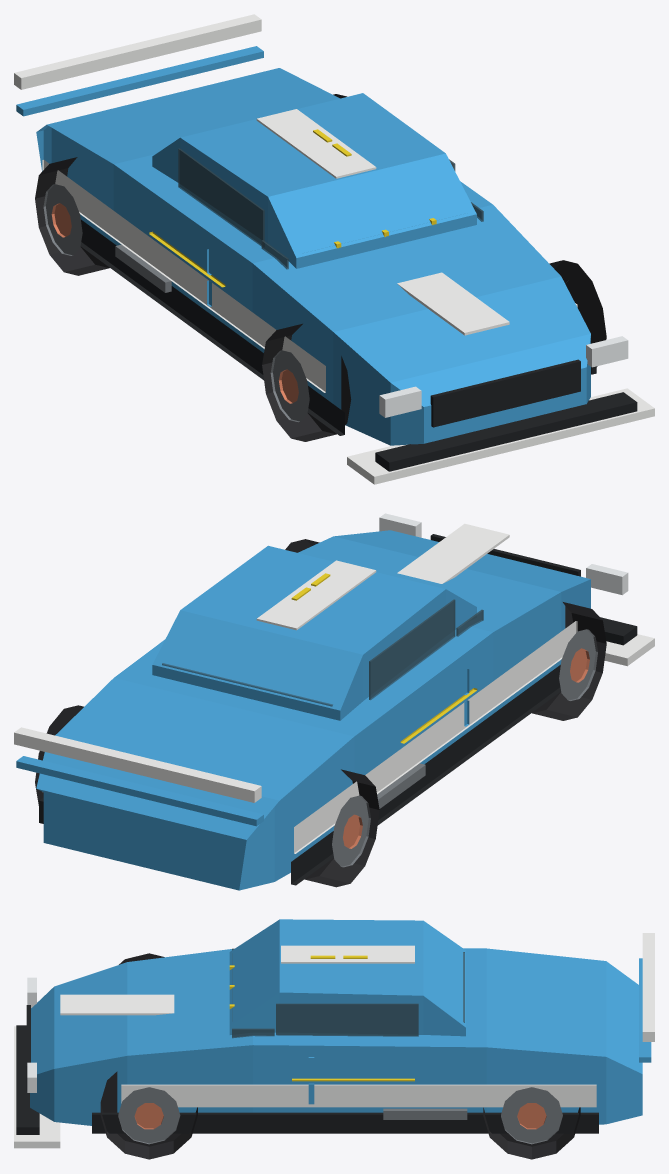
The model's file is deformable_stock_car_01.gltf.
3 views of the same model, one above another, from view 1: azimuth 30°, elevation 25°; view 2: azimuth 150°, elevation 25°; view 3: azimuth 270°, elevation 25° (orthographic). The views are drawn at different scales.
Visible parts, largest first — view 1: DeformableStockCar_01; view 2: DeformableStockCar_01; view 3: DeformableStockCar_01.
Part boxes in pixels (x1,y1,x2,y2): DeformableStockCar_01: (14,14,654,484); DeformableStockCar_01: (14,513,654,890); DeformableStockCar_01: (14,919,654,1159).
Size of the model in its own units: 2.35 by 1.34 by 5.26.
